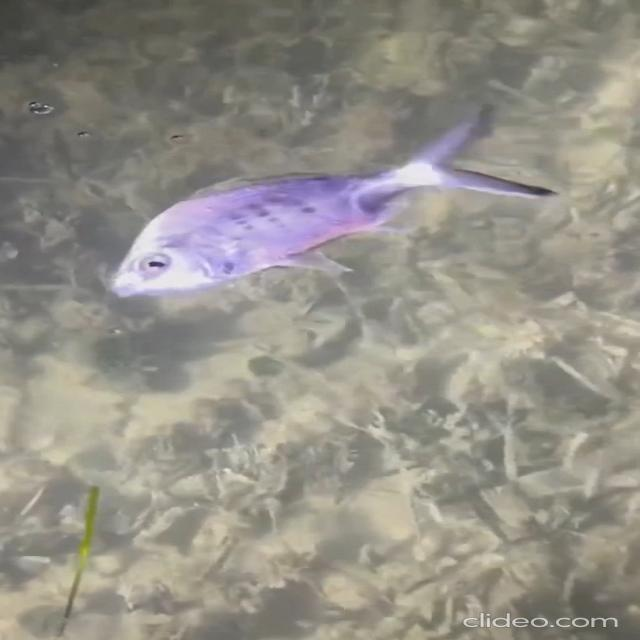fish: (80, 103, 606, 300)
